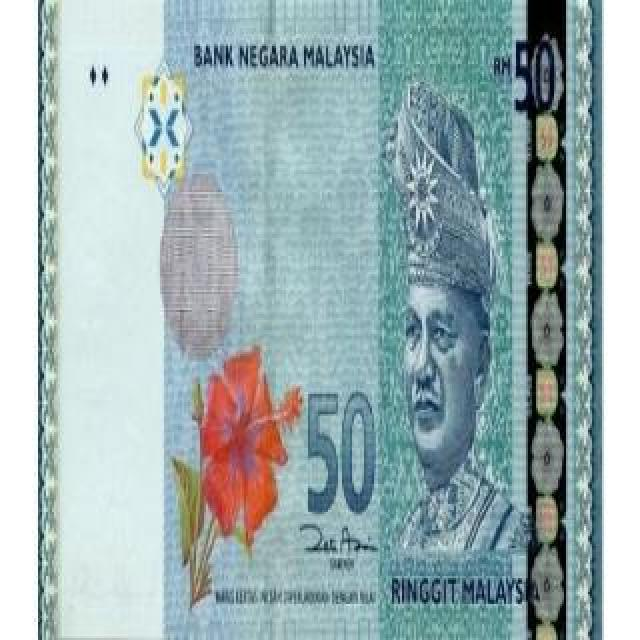50 Ringgit: (38, 0, 602, 640)
